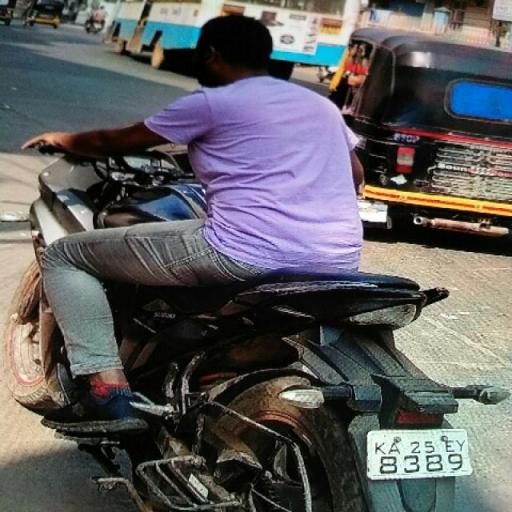bike: (6, 10, 508, 512)
numberplate: (369, 428, 472, 479)
withouthelmet: (204, 16, 270, 78)
